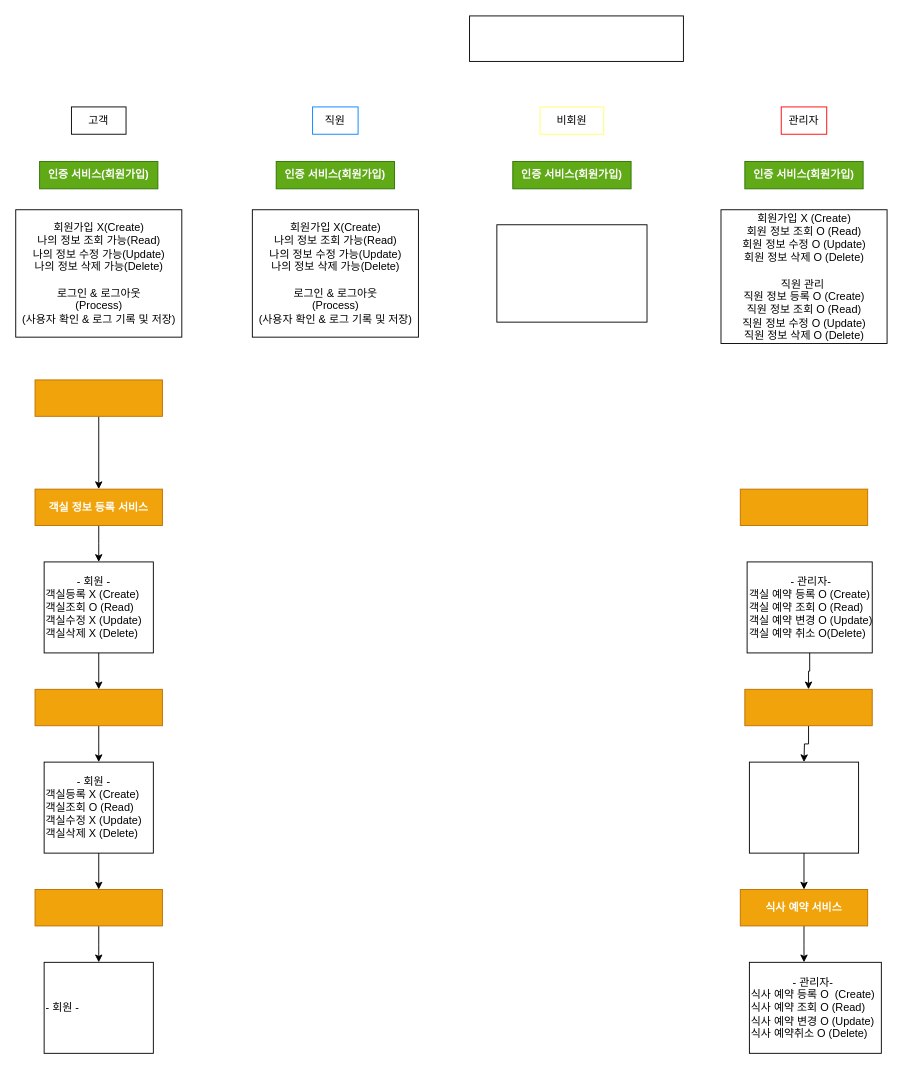
Image size: 904x1069. Some labels were removed from this diagram. Each missing label, with the centre of its shape:
"- 관리자 - 주차등록 O (Create) 주차조회 O (Read) 주차변경 O (Update) 주차취소 O (Delete)" belongs at point 803,807.
"객실 예약 서비스" belongs at point 803,507.
"서비스" belongs at point 98,397.
"식사 서비스" belongs at point 98,907.
"주차 등록 서비스" belongs at point 808,707.
"주차 서비스" belongs at point 98,707.
"호텔 서비스 프로그램" belongs at point 576,38.
"회원가입 가능(Create)" belongs at point 571,273.
